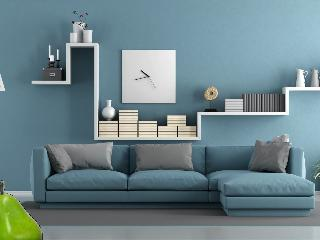pear: (0, 180, 43, 239)
